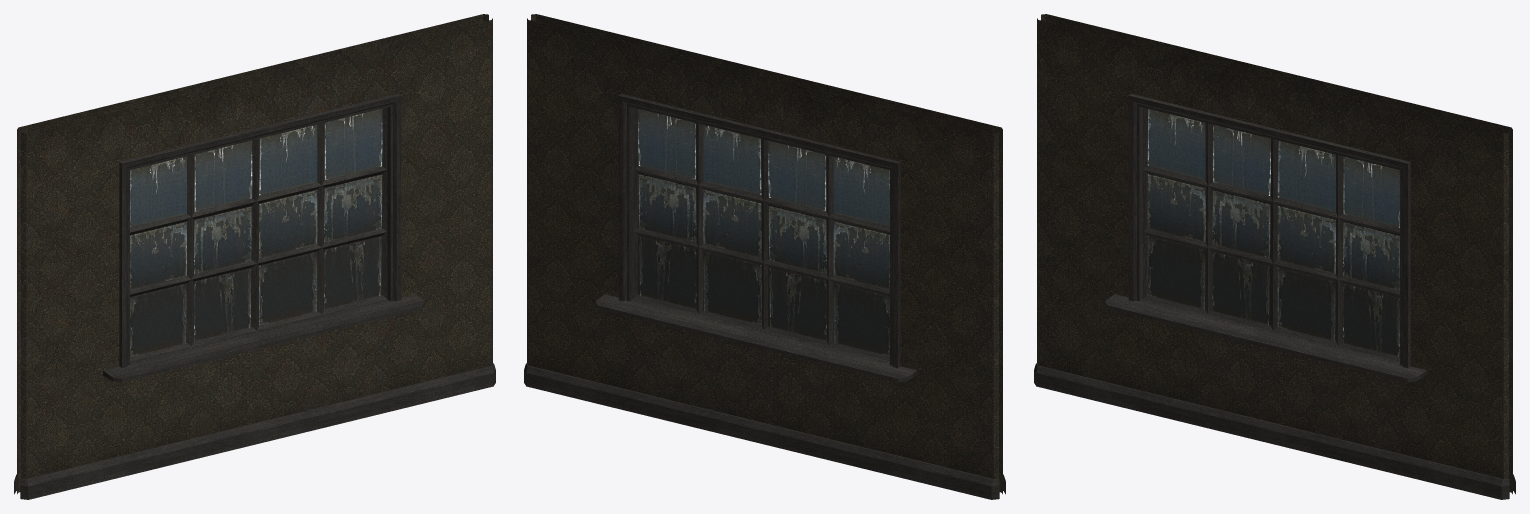
The model's file is window_2_2_double.glb.
The picture shows the model from 3 angles, left to right: view 1: azimuth 30°, elevation 25°; view 2: azimuth 150°, elevation 25°; view 3: azimuth 330°, elevation 25°; orthographic projection.
Visible parts, largest first — view 1: window_2_2_double; view 2: window_2_2_double; view 3: window_2_2_double.
Part boxes in pixels (x1,y1,x2,y2): window_2_2_double: (14,14,495,499); window_2_2_double: (524,14,1005,499); window_2_2_double: (1034,14,1515,499).
Size of the model in its own units: 4.09 by 3 by 0.52.
Materials: 3 (3 with a texture image).
